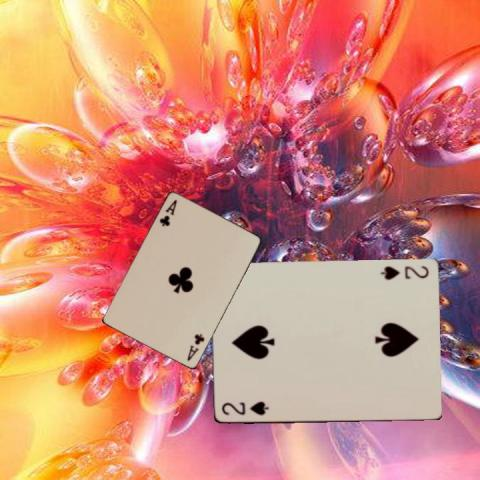2s: (378, 263, 430, 282), (218, 399, 270, 417)
Ac: (184, 331, 206, 363), (156, 197, 178, 228)
